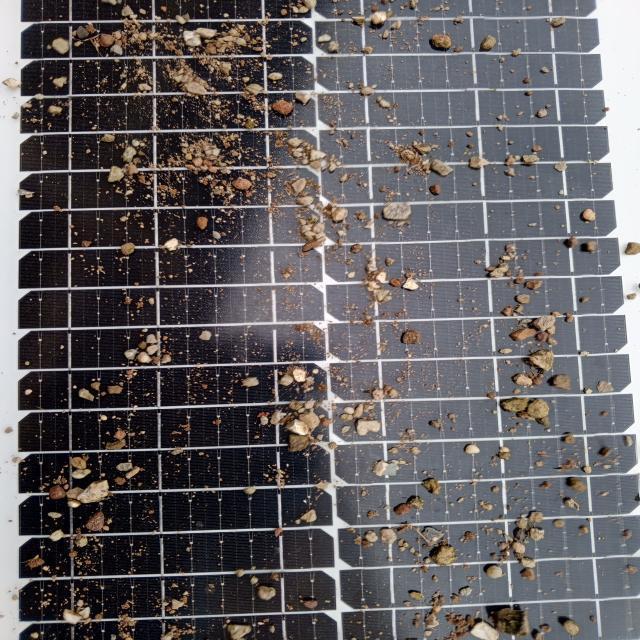Surface Contaminant: (14, 13, 622, 639)
